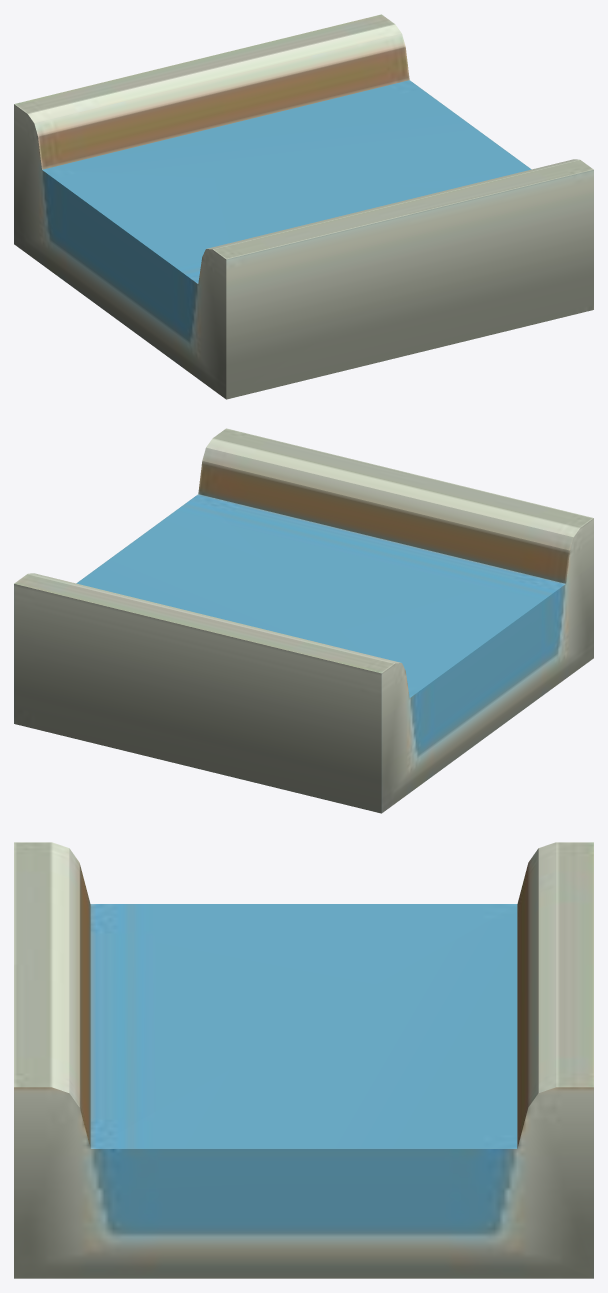
Rendered from creek_straight.glb.
3 renders of one model, top to bottom at view 1: azimuth 30°, elevation 25°; view 2: azimuth 150°, elevation 25°; view 3: azimuth 270°, elevation 25°, orthographic. The views are drawn at different scales.
Parts seen in each view (by area): view 1: creek_straight; view 2: creek_straight; view 3: creek_straight.
Boxes of the visible parts, x1=… form: creek_straight: x1=14, y1=14, x2=593, y2=399; creek_straight: x1=14, y1=428, x2=593, y2=813; creek_straight: x1=14, y1=842, x2=593, y2=1278.
Size of the model in its own units: 2 by 0.7285 by 2.
Materials: 1 (1 with a texture image).
